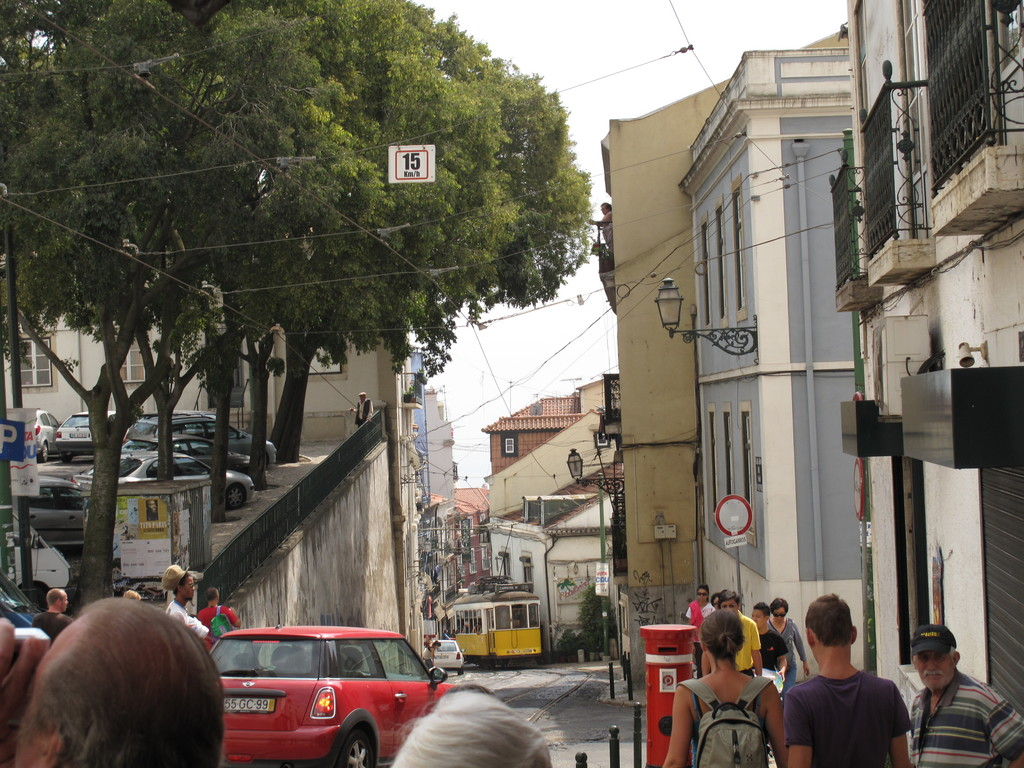Car: (0, 411, 273, 628), (156, 630, 462, 768), (61, 442, 258, 510), (0, 469, 101, 554), (122, 408, 279, 459), (124, 427, 256, 469), (54, 403, 116, 458), (0, 566, 39, 638), (35, 404, 62, 460), (433, 638, 458, 669)
